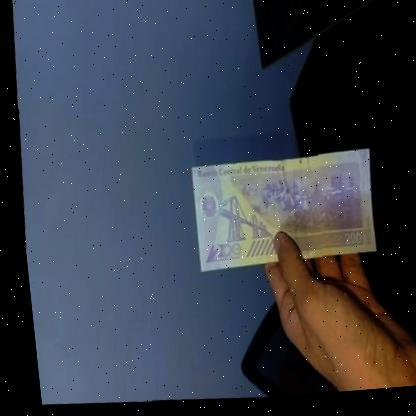two_hundred-back-vef: (180, 143, 378, 283)
